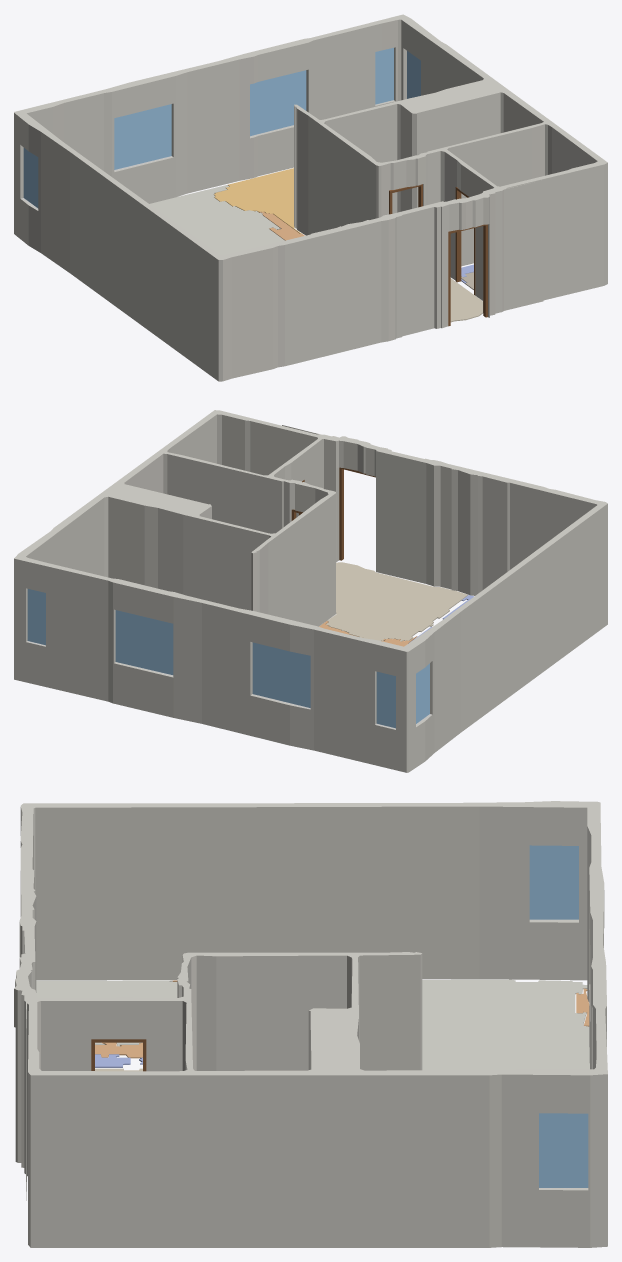
The picture shows the model from 3 angles, top to bottom: view 1: azimuth 30°, elevation 25°; view 2: azimuth 150°, elevation 25°; view 3: azimuth 270°, elevation 25°; orthographic projection. The views are drawn at different scales.
Visible parts, largest first — view 1: walls, floor_12_Undefined, window_5, window_4, floor_1_Kitchen, window_3, floor_8_Entry, window_8, door_2, window_7, door_1; view 2: walls, floor_8_Entry, window_5, window_4, window_6, window_3, window_8, door_2; view 3: walls, floor_12_Undefined, window_7, window_8, floor_10_Undefined, floor_2_Living_Room.
Part boxes in pixels (x1=…): walls: x1=14, y1=14, x2=607, y2=381; floor_12_Undefined: x1=149, y1=185, x2=284, y2=255; window_5: x1=114, y1=104, x2=171, y2=169; window_4: x1=250, y1=70, x2=306, y2=136; floor_1_Kitchen: x1=214, y1=168, x2=301, y2=233; window_3: x1=375, y1=48, x2=393, y2=104; floor_8_Entry: x1=450, y1=278, x2=482, y2=322; window_8: x1=23, y1=148, x2=38, y2=208; door_2: x1=448, y1=224, x2=487, y2=326; window_7: x1=407, y1=51, x2=420, y2=98; door_1: x1=455, y1=187, x2=475, y2=295; walls: x1=14, y1=410, x2=607, y2=772; floor_8_Entry: x1=326, y1=562, x2=467, y2=641; window_5: x1=252, y1=642, x2=310, y2=707; window_4: x1=115, y1=610, x2=173, y2=674; window_6: x1=376, y1=671, x2=395, y2=728; window_3: x1=27, y1=589, x2=45, y2=645; window_8: x1=416, y1=663, x2=429, y2=723; door_2: x1=339, y1=467, x2=375, y2=560; walls: x1=14, y1=801, x2=607, y2=1247; floor_12_Undefined: x1=422, y1=979, x2=589, y2=1070; window_7: x1=539, y1=1113, x2=588, y2=1187; window_8: x1=529, y1=845, x2=578, y2=919; floor_10_Undefined: x1=36, y1=980, x2=177, y2=1046; floor_2_Living_Room: x1=95, y1=980, x2=177, y2=1058.
Bounding box in the file's own units: 9.2 × 2.72 × 8.42.
